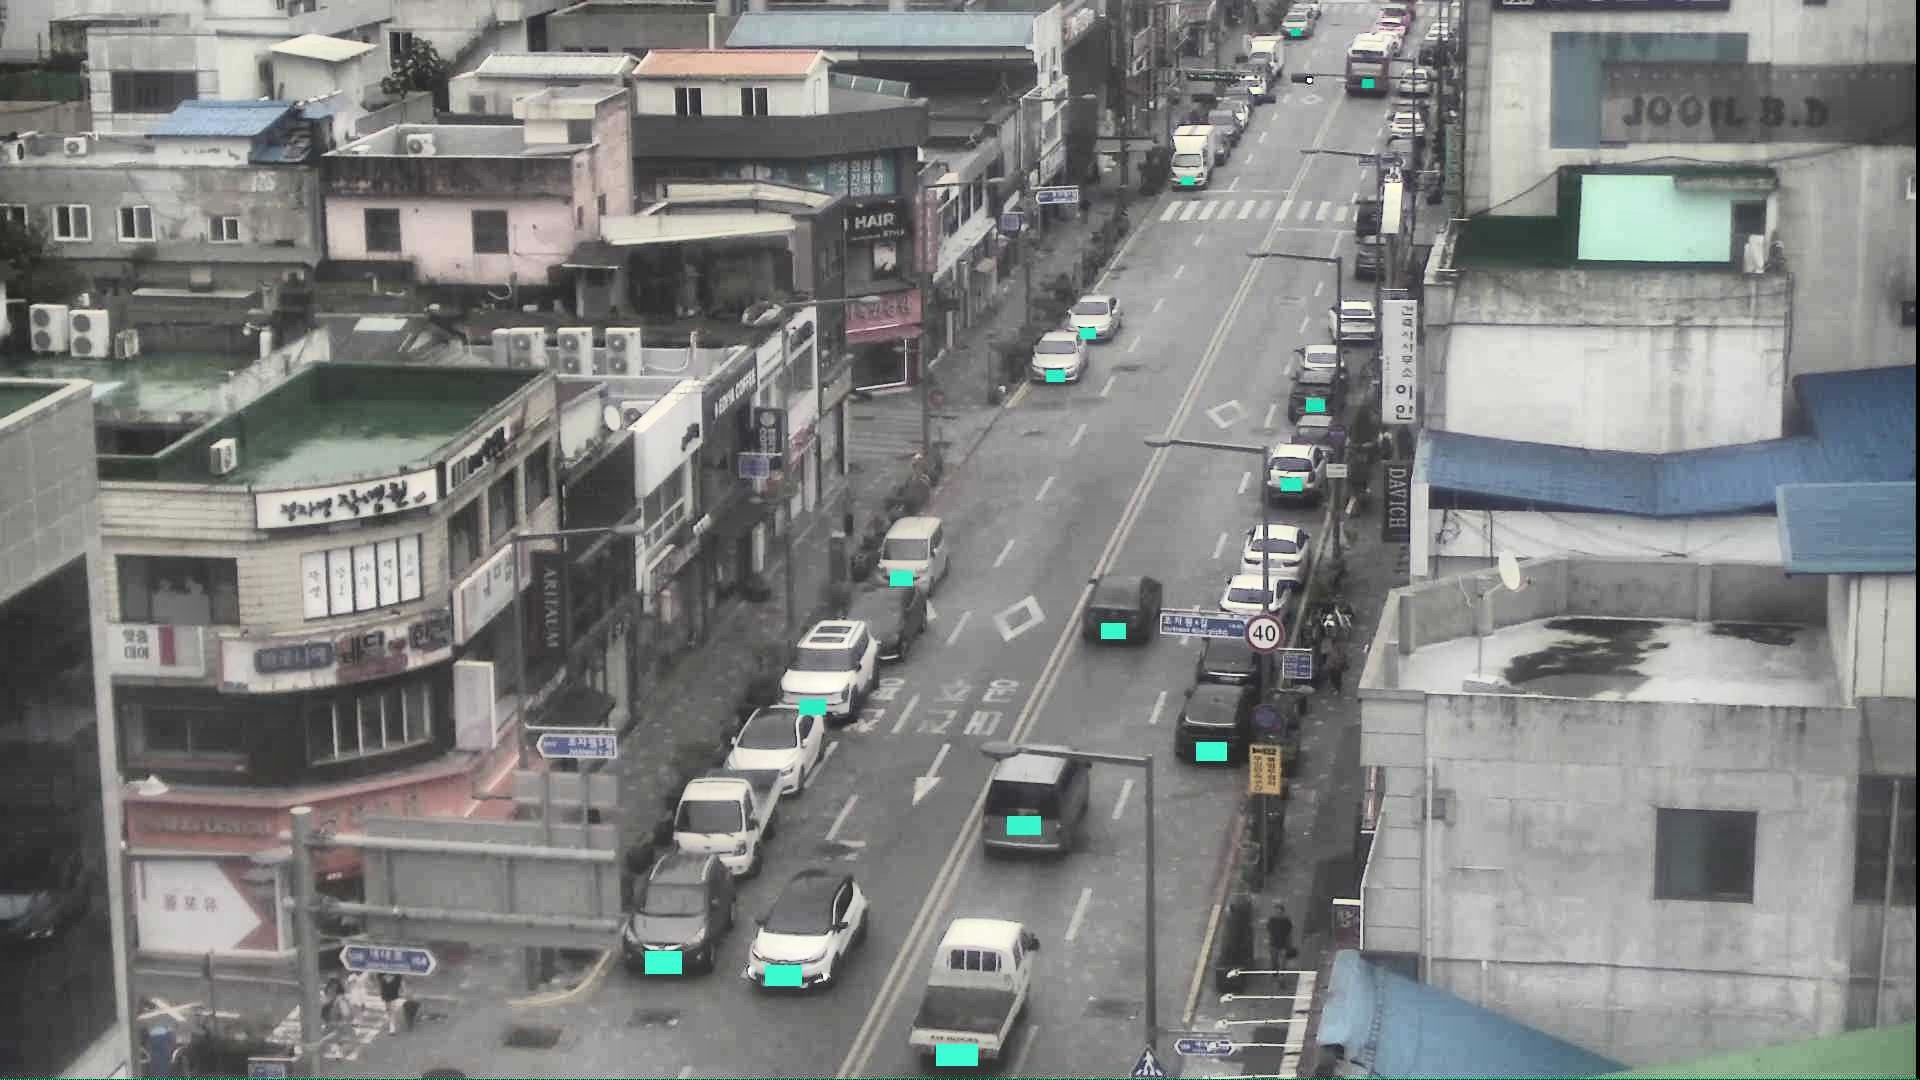jaywalk: (376, 959, 415, 1036), (322, 980, 351, 1054), (345, 955, 375, 1022)
sidewalk: (1265, 903, 1300, 992), (1323, 640, 1352, 700), (839, 485, 858, 539), (1377, 425, 1394, 468), (1396, 425, 1414, 464), (1077, 195, 1093, 229)
